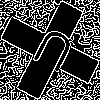U: (25, 25, 78, 83)
